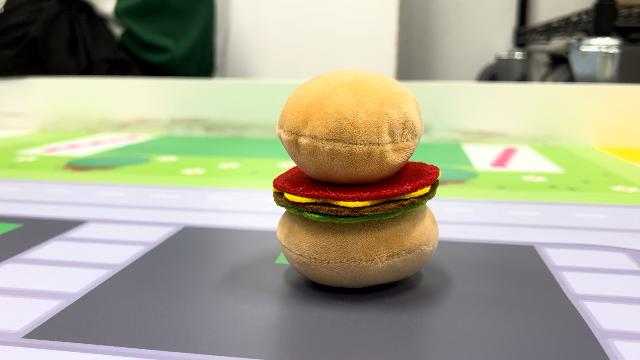burger: (266, 65, 446, 291)
